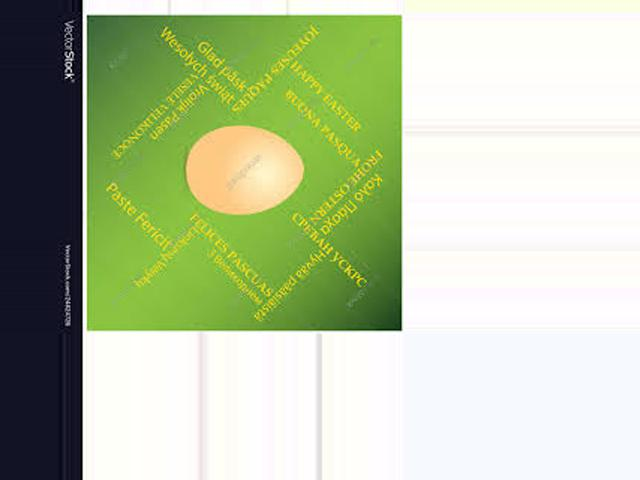egg: (186, 126, 300, 215)
